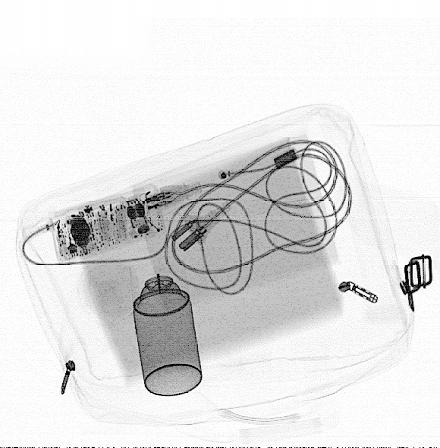Sprayer: (128, 254, 202, 396)
